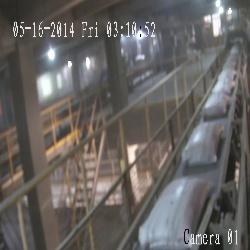cementbag: (138, 175, 212, 250), (181, 122, 224, 165), (203, 93, 228, 117), (211, 78, 234, 93), (218, 69, 236, 78)
